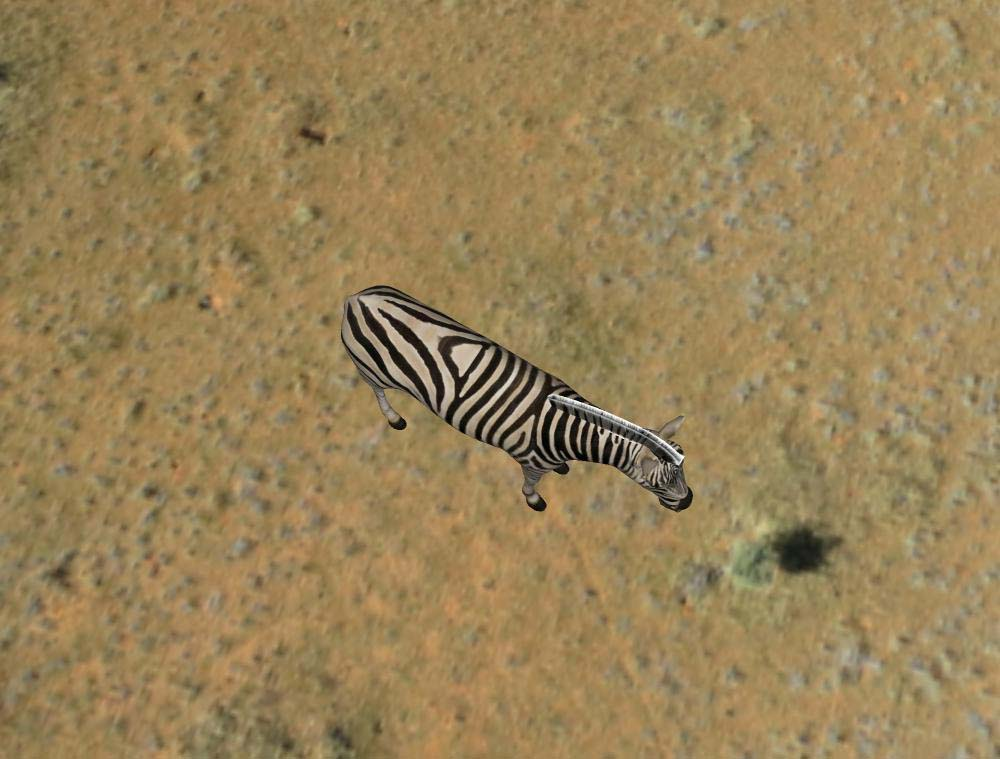zebra: (336, 273, 693, 529)
